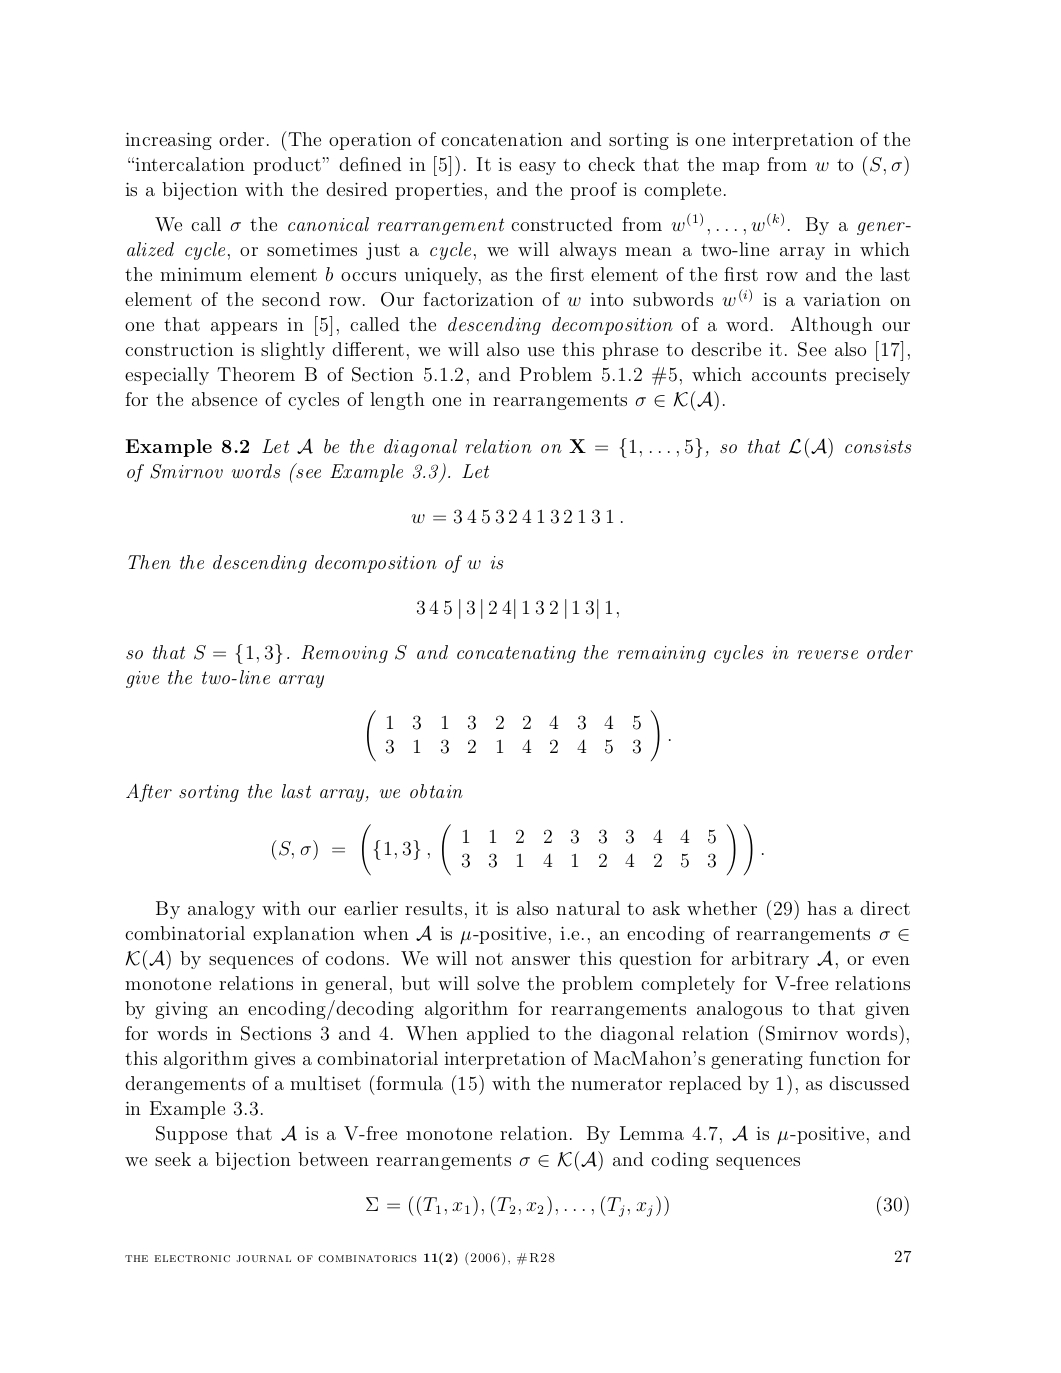formula: (272, 822, 763, 876), (367, 709, 670, 762), (366, 1195, 908, 1217), (416, 598, 619, 619), (411, 508, 622, 524)
